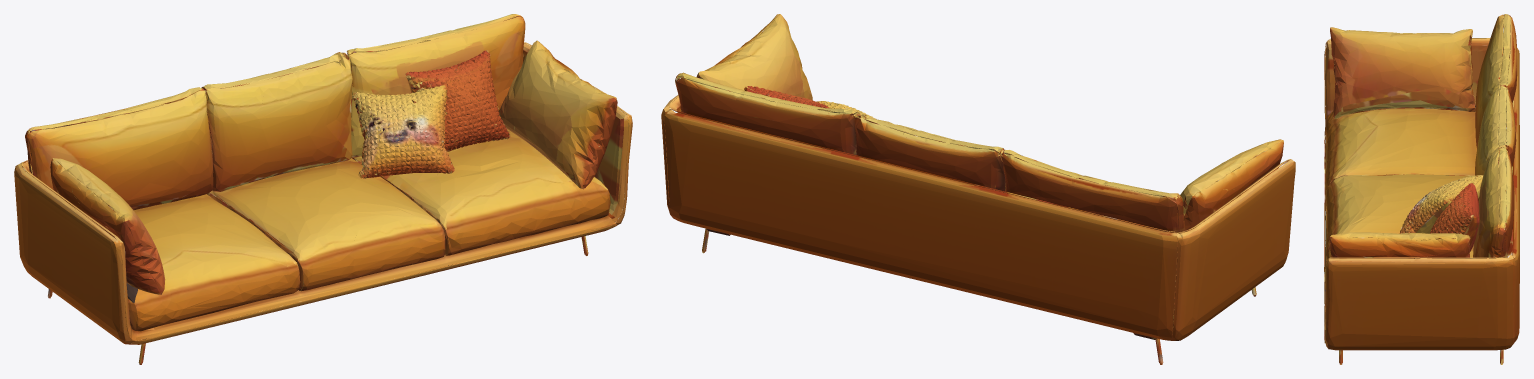
Rendered from edited_mesh.glb.
3 renders of one model, left to right at view 1: azimuth 30°, elevation 25°; view 2: azimuth 150°, elevation 25°; view 3: azimuth 270°, elevation 25°, orthographic. The views are drawn at different scales.
Parts seen in each view (by area): view 1: solid_001_wire; view 2: solid_001_wire; view 3: solid_001_wire.
Boxes of the visible parts, box(x1,y1,x2,y2) form: solid_001_wire: box(14, 14, 632, 364); solid_001_wire: box(661, 14, 1295, 364); solid_001_wire: box(1324, 14, 1519, 364).
Bounding box in the file's own units: 2 × 0.6387 × 0.7369.
1 material, 1 textured.
